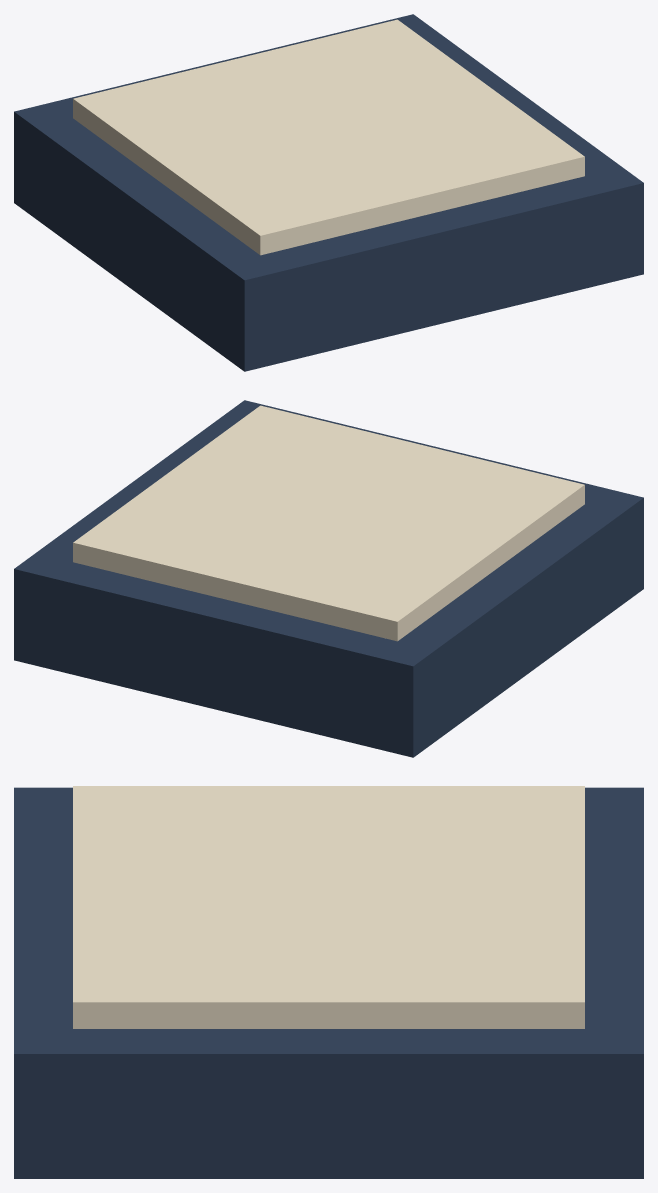
The model's file is floor_cushion.glb.
The picture shows the model from 3 angles, top to bottom: view 1: azimuth 30°, elevation 25°; view 2: azimuth 150°, elevation 25°; view 3: azimuth 270°, elevation 25°; orthographic projection. The views are drawn at different scales.
Parts seen in each view (by area): view 1: floor_cushion; view 2: floor_cushion; view 3: floor_cushion.
Boxes of the visible parts, box(x1,y1,x2,y2) form: floor_cushion: box(14, 14, 643, 371); floor_cushion: box(14, 400, 643, 757); floor_cushion: box(14, 786, 643, 1178).
Size of the model in its own units: 0.64 by 0.17 by 0.64.
